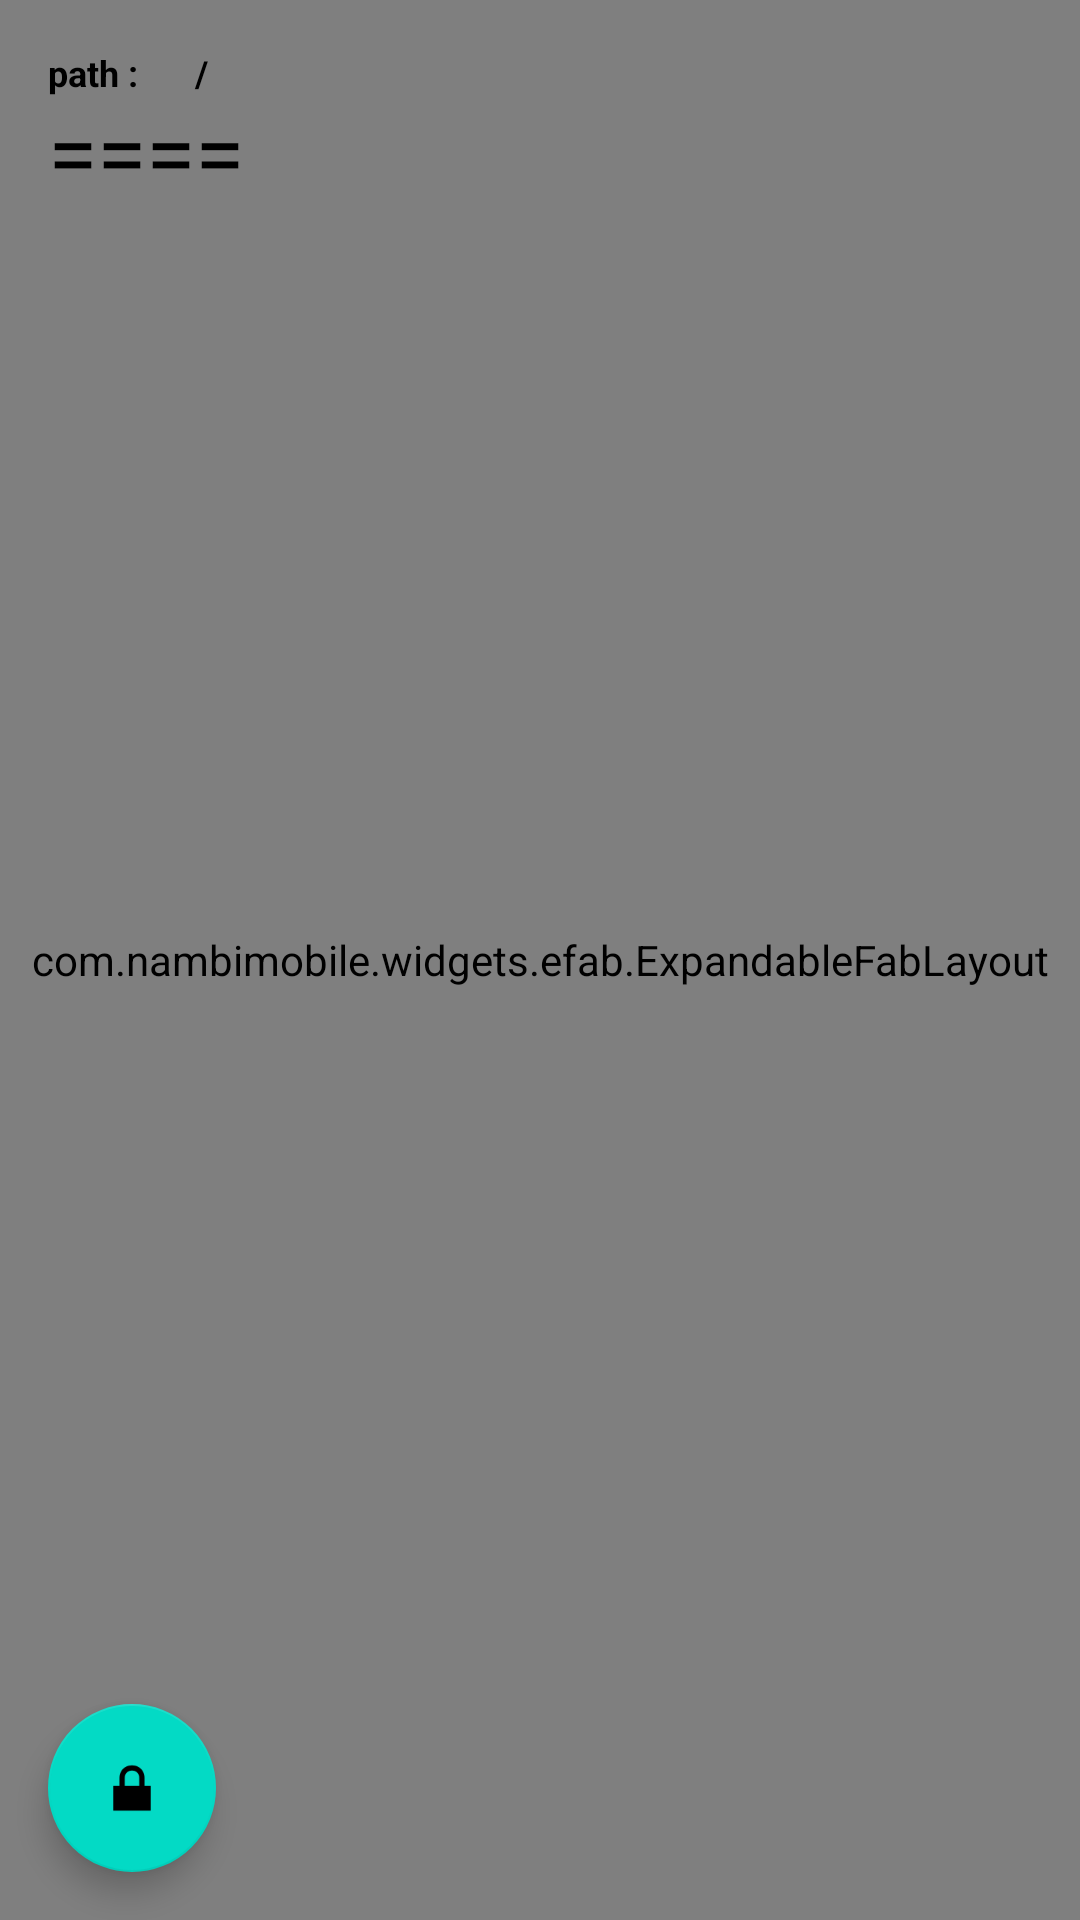

Named icons in this screenshot (1080*1920) and their bounding boxes, box=[x1, y1, x2, y2]:
lock: box=[48, 1704, 216, 1872]
